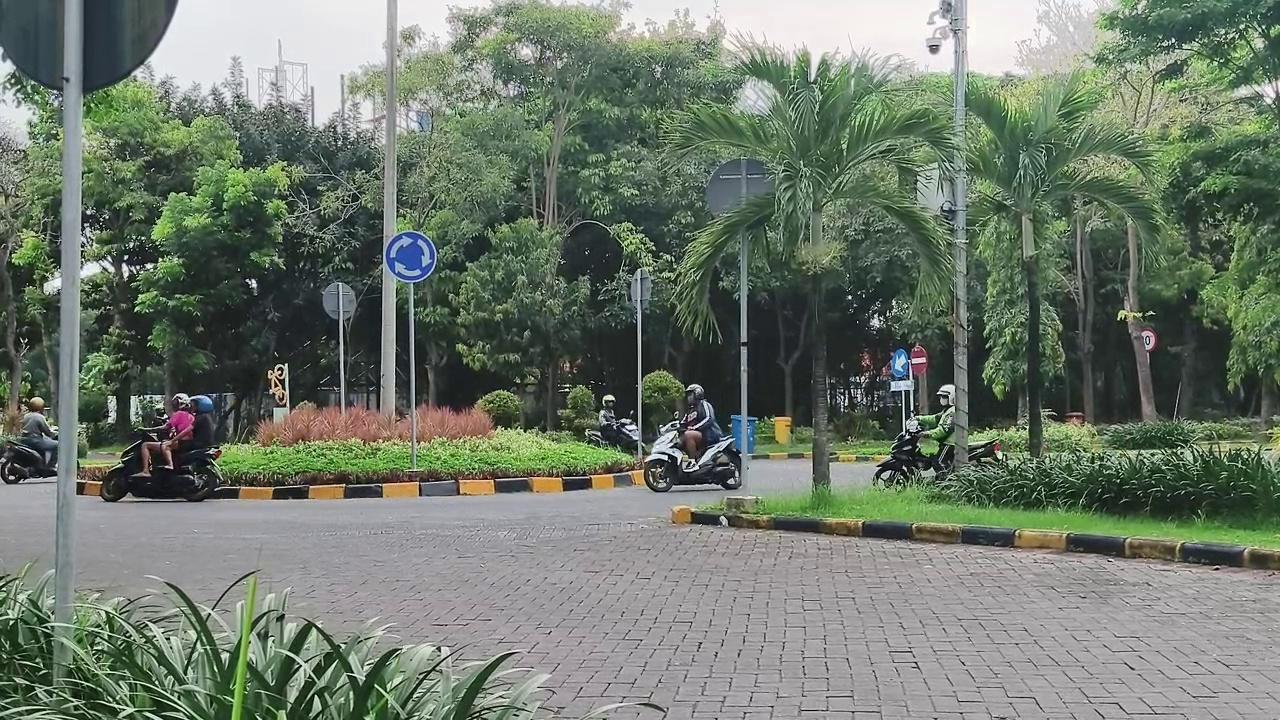Helmet: (136, 393, 194, 476), (680, 384, 722, 470), (914, 383, 955, 471), (21, 397, 57, 465), (598, 394, 616, 429)
Motor: (100, 433, 221, 501), (645, 421, 741, 491), (873, 419, 952, 486), (0, 438, 56, 484), (585, 418, 640, 453)
